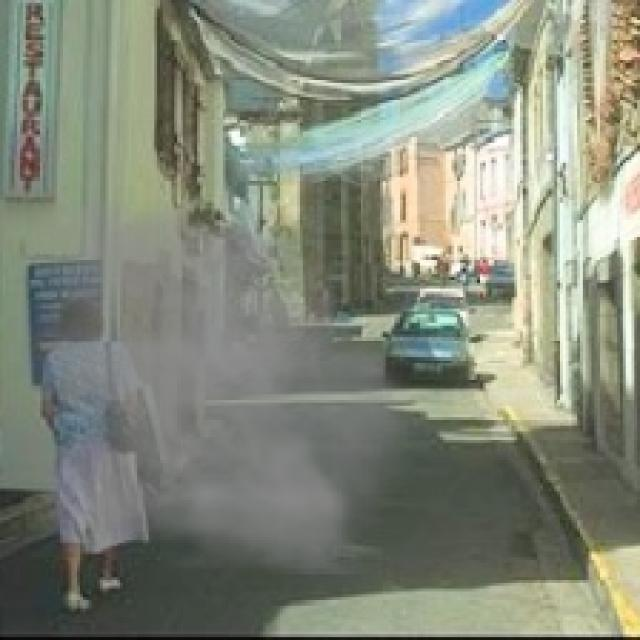smoke: (26, 200, 428, 574)
